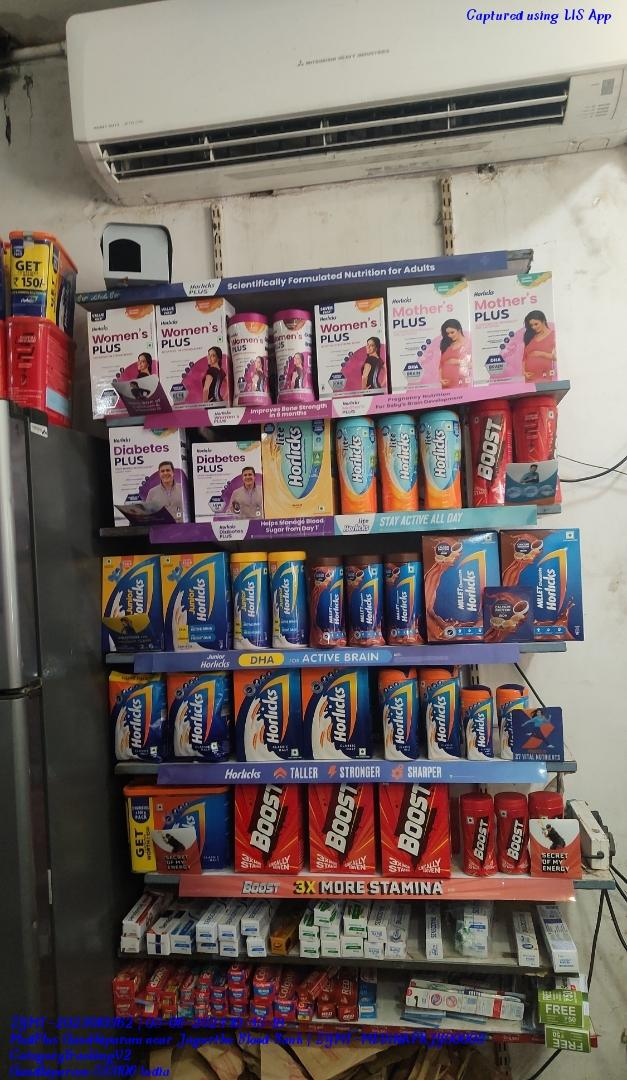HORLICKS_JUNIOR_VANILLA_500_GM_JAR: (230, 549, 266, 651), (271, 552, 304, 654)
HORLICKS_LITE_REGULAR_MALT_500_GM_JAR: (423, 409, 463, 510), (380, 414, 419, 511), (341, 415, 375, 513)
HORLICK_MALT_1_KG_CONTAINER: (130, 788, 228, 870)
